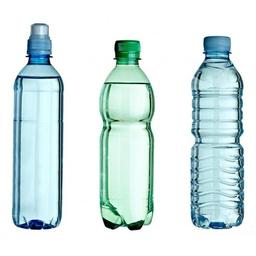plastic: (2, 12, 74, 237), (183, 22, 256, 236), (92, 26, 160, 240)
